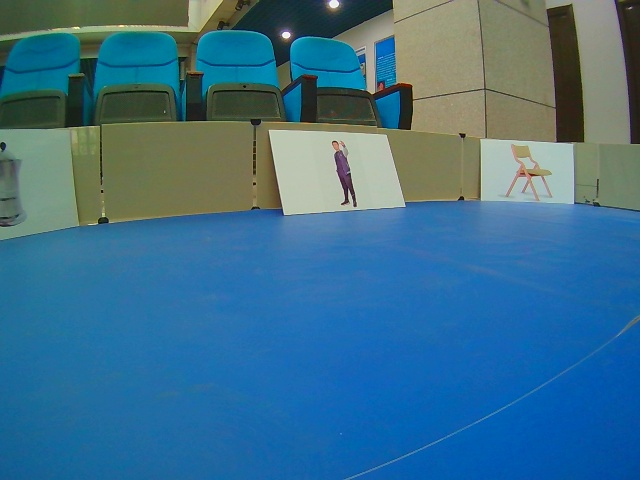person: (268, 130, 407, 216)
table: (480, 139, 574, 205)
